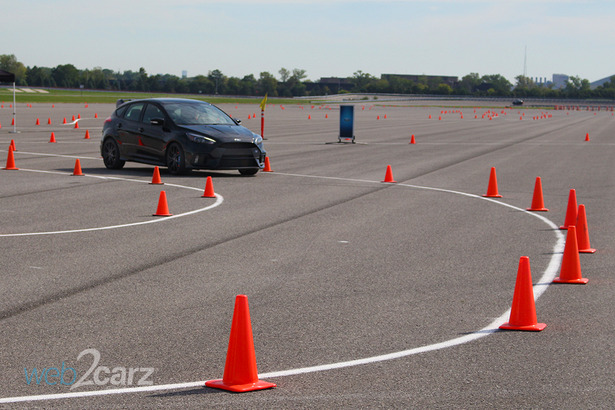cone: (204, 293, 277, 396), (498, 255, 552, 334), (547, 224, 589, 288), (567, 203, 595, 256), (560, 186, 583, 230), (526, 175, 549, 214), (151, 189, 175, 221), (483, 165, 502, 200), (143, 161, 167, 188), (3, 145, 25, 172), (198, 174, 219, 200), (68, 156, 89, 177), (379, 163, 397, 184), (260, 155, 277, 175), (43, 127, 59, 145), (405, 132, 418, 148), (6, 137, 18, 152), (583, 130, 594, 145), (81, 128, 93, 139)
